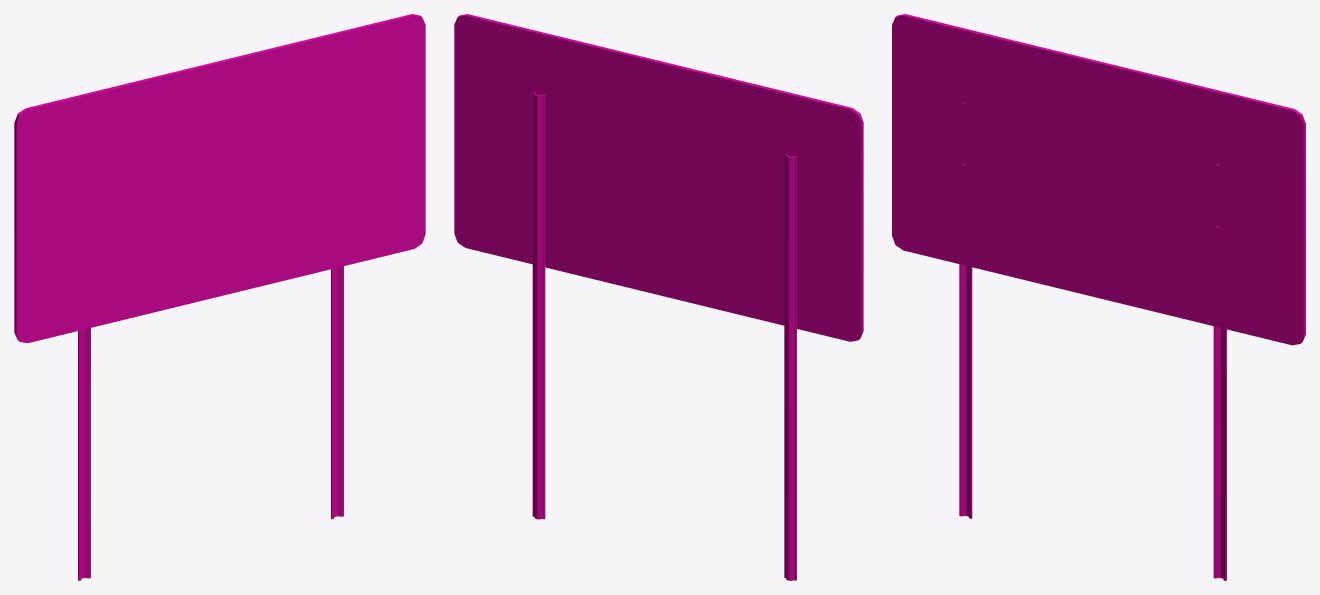
Rendered from Envi_RoadSign_v02.fbx.
3 renders of one model, left to right at view 1: azimuth 30°, elevation 25°; view 2: azimuth 150°, elevation 25°; view 3: azimuth 330°, elevation 25°, orthographic.
Visible parts, largest first — view 1: Truck_Ex_Set02_RoadSign_Face, Truck_Ex_Set02_RoadSign_Stand_02, Truck_Ex_Set02_RoadSign_Stand_01; view 2: Truck_Ex_Set02_RoadSign_Face, Truck_Ex_Set02_RoadSign_Stand_02, Truck_Ex_Set02_RoadSign_Stand_01; view 3: Truck_Ex_Set02_RoadSign_Face, Truck_Ex_Set02_RoadSign_Stand_02, Truck_Ex_Set02_RoadSign_Stand_01.
Part boxes in pixels (x1=…): Truck_Ex_Set02_RoadSign_Face: x1=14, y1=14, x2=425, y2=343; Truck_Ex_Set02_RoadSign_Stand_02: x1=331, y1=266, x2=343, y2=519; Truck_Ex_Set02_RoadSign_Stand_01: x1=78, y1=328, x2=90, y2=580; Truck_Ex_Set02_RoadSign_Face: x1=454, y1=14, x2=863, y2=341; Truck_Ex_Set02_RoadSign_Stand_02: x1=532, y1=92, x2=545, y2=519; Truck_Ex_Set02_RoadSign_Stand_01: x1=784, y1=153, x2=796, y2=580; Truck_Ex_Set02_RoadSign_Face: x1=892, y1=14, x2=1305, y2=345; Truck_Ex_Set02_RoadSign_Stand_02: x1=1213, y1=326, x2=1226, y2=580; Truck_Ex_Set02_RoadSign_Stand_01: x1=959, y1=264, x2=972, y2=518.
Size of the model in its own units: 110 by 125 by 2.51.
